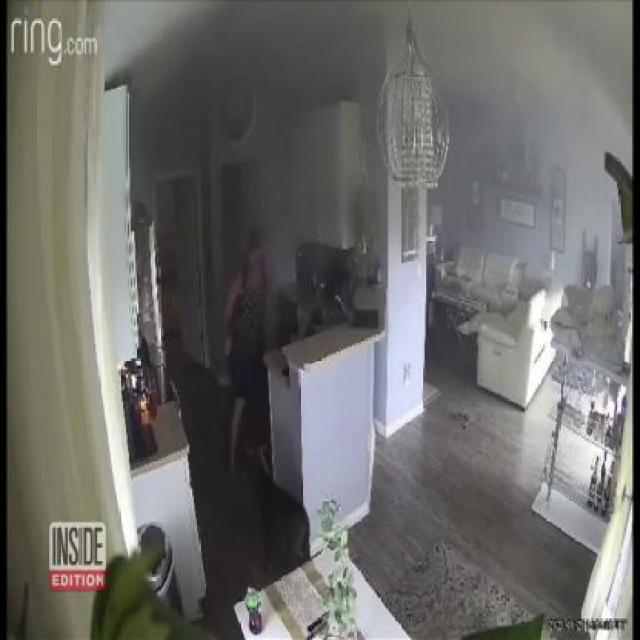smoke: (444, 5, 628, 120), (120, 5, 242, 76)
